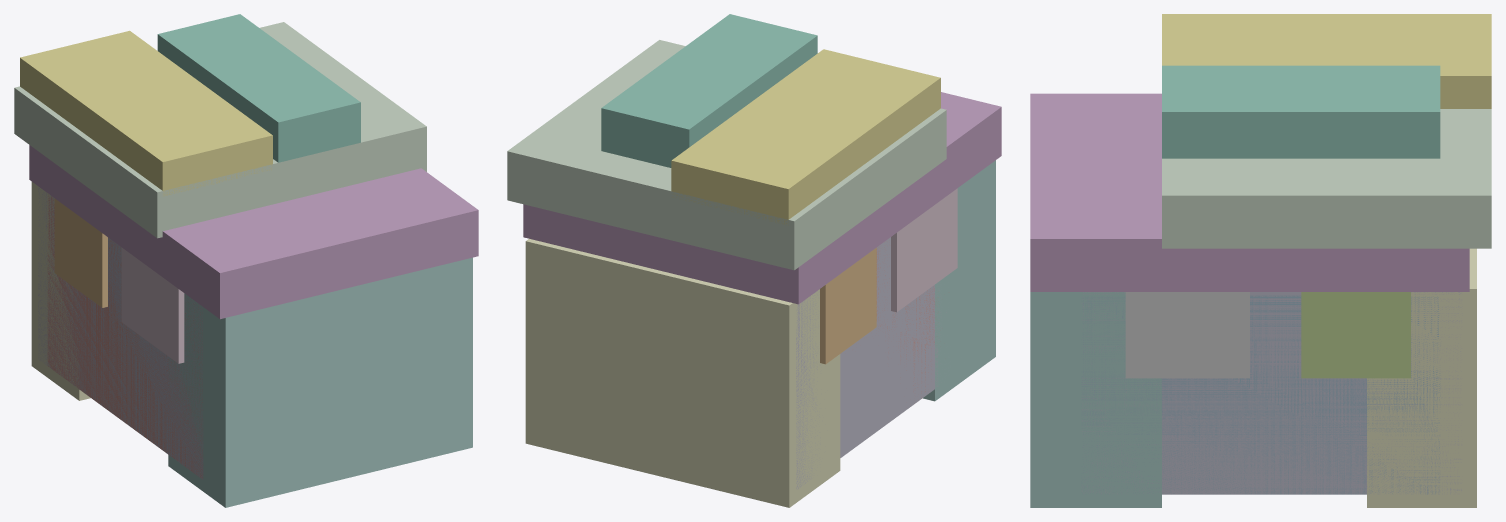
File: printer_bbox.glb
The picture shows the model from 3 angles, left to right: view 1: azimuth 30°, elevation 25°; view 2: azimuth 150°, elevation 25°; view 3: azimuth 270°, elevation 25°; orthographic projection. The views are drawn at different scales.
Visible parts, largest first — view 1: world; view 2: world; view 3: world.
Boxes of the visible parts, x1,y1,x2,y2 form: world: (14, 14, 478, 507); world: (507, 14, 1001, 507); world: (1030, 14, 1491, 507).
Bounding box in the file's own units: 0.7778 × 0.873 × 1.
